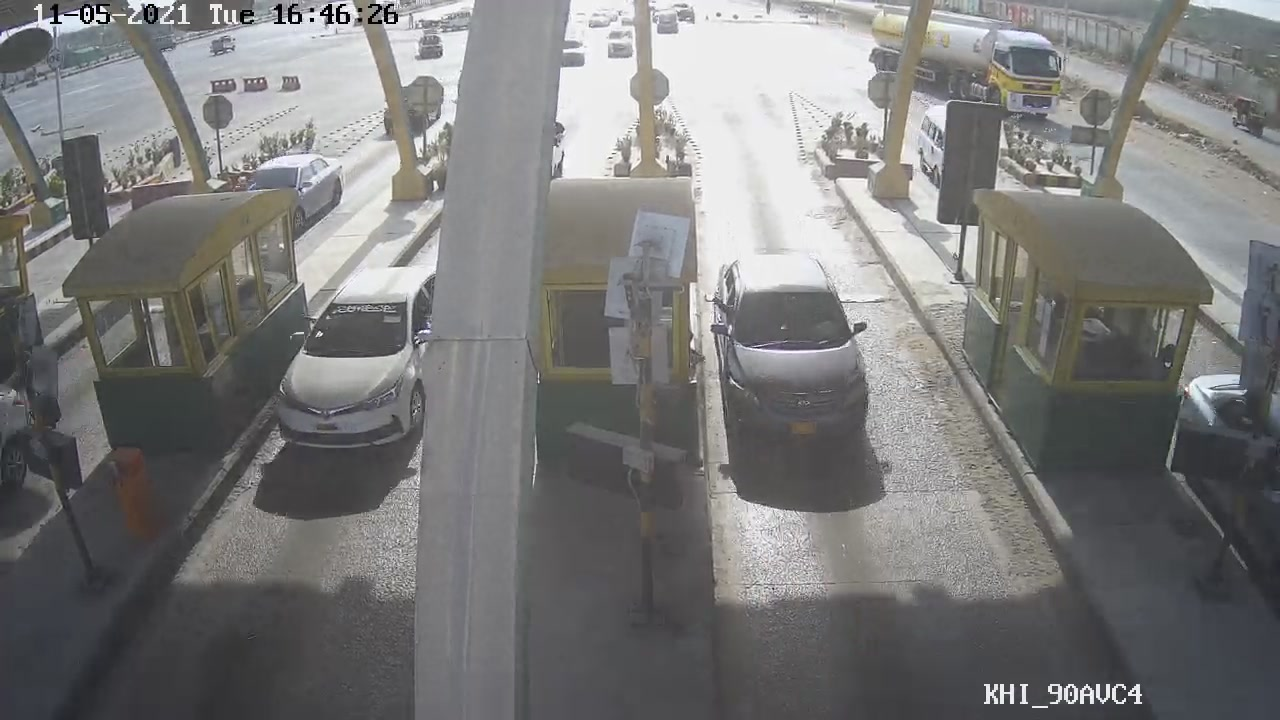F1: (702, 248, 879, 468)
